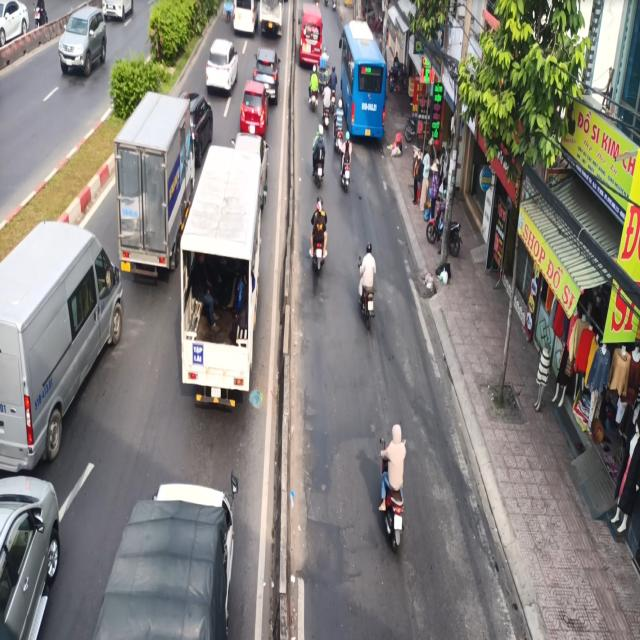car: (206, 40, 239, 100)
motor: (375, 415, 411, 561), (353, 238, 376, 322), (311, 192, 331, 283), (310, 124, 328, 184)
truck: (183, 142, 262, 416)
